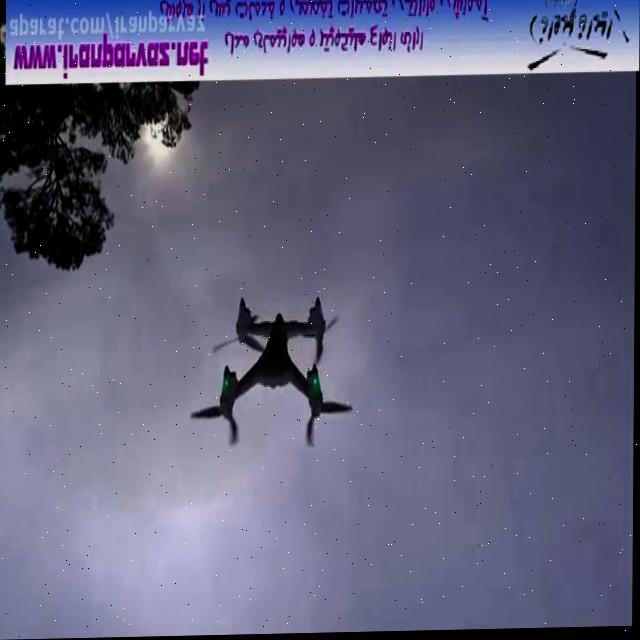drone: (188, 294, 356, 457)
